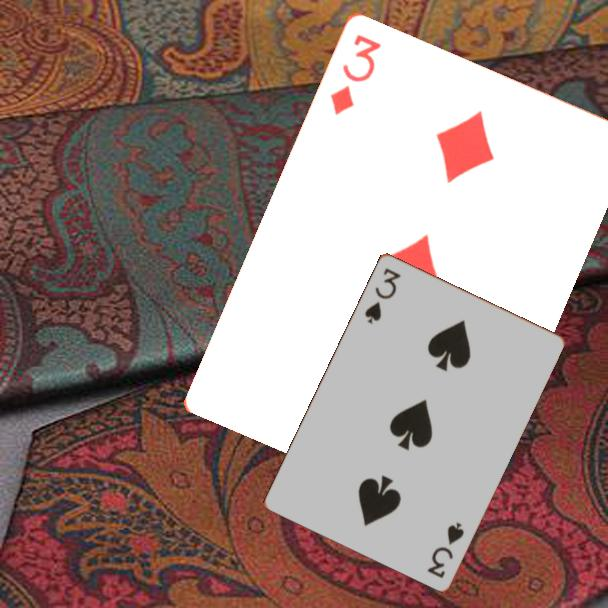d03: (326, 30, 384, 118)
s03: (423, 518, 467, 581), (361, 264, 403, 327)
